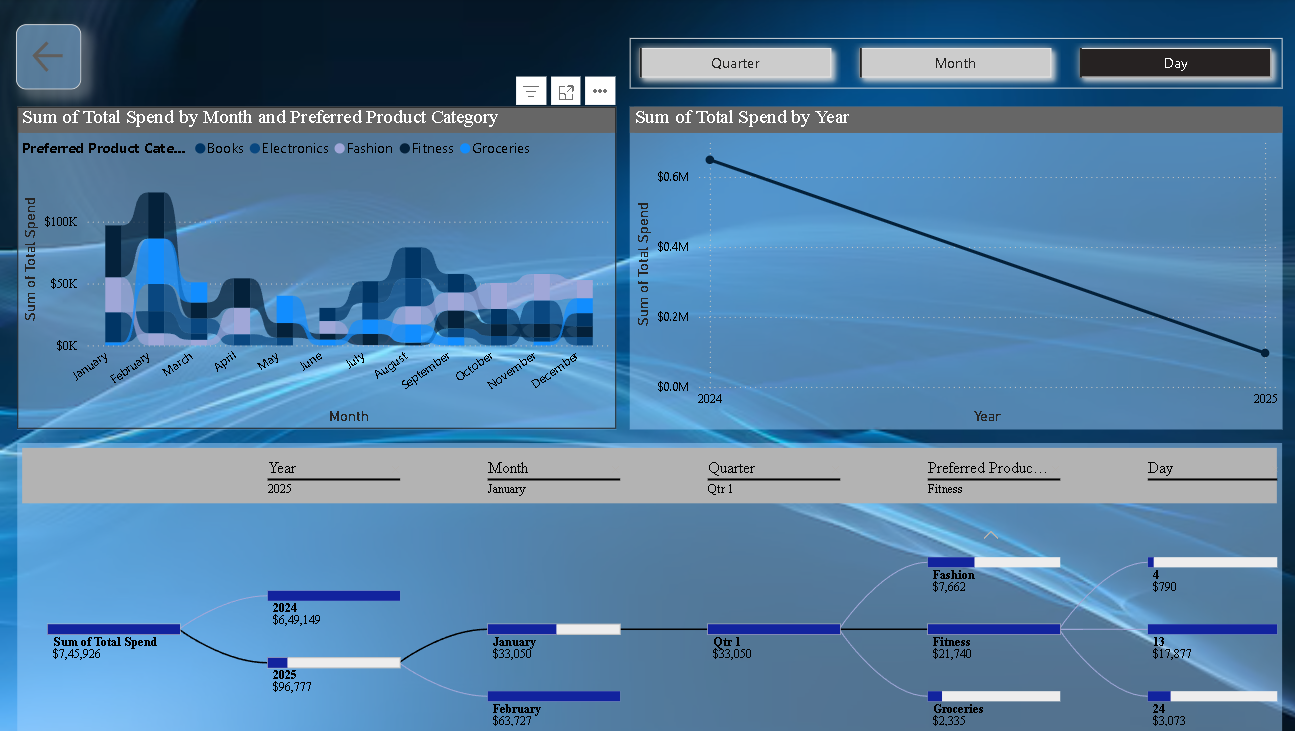

This screenshot's page, from the dashboard's own definition file:
{"tool":"powerbi","page":{"name":"Page 2","canvas":[1280,720],"ordinal":2},"visuals":[{"type":"decompositionTreeVisual","fields":{"Analyze":["Sum(Sheet1.Total Spend)"],"ExplainBy":["Sheet1.Last Purchase Date.Variation.Date Hierarchy.Year","Sheet1.Last Purchase Date.Variation.Date Hierarchy.Month","Sheet1.Last Purchase Date.Variation.Date Hierarchy.Quarter","Sheet1.Preferred Product Category","Sheet1.Last Purchase Date.Variation.Date Hierarchy.Day"]},"box":[20.7,437.3,1241.7,282.8],"z":0},{"type":"ribbonChart","fields":{"Y":["Sum(Sheet1.Total Spend)"],"Category":["Sheet1.Last Purchase Date.Variation.Date Hierarchy.Month"],"Series":["Sheet1.Preferred Product Category"]},"box":[20.6,106.2,587.7,317],"z":1000},{"type":"lineChart","fields":{"Y":["Sum(Sheet1.Total Spend)"],"Category":["Sheet1.Last Purchase Date.Variation.Date Hierarchy.Year","Sheet1.Last Purchase Date.Variation.Date Hierarchy.Quarter","Sheet1.Last Purchase Date.Variation.Date Hierarchy.Month","Sheet1.Last Purchase Date.Variation.Date Hierarchy.Day"]},"box":[622,106.2,640.9,317],"z":2000},{"type":"bookmarkNavigator","box":[622,39.4,640.9,49.7],"z":3000},{"type":"actionButton","box":[20,26.2,63.8,63.8],"z":4000}]}

Visuals, with their boxes in screenshot pixels (x1, y1, x2, y2), scaled from the page's 1280x720 canvas onto the 1295x731 screenshot:
decompositionTreeVisual - Sum(Sheet1.Total Spend) x Sheet1.Last Purchase Date.Variation.Date Hierarchy.Year: box=[21, 444, 1277, 730]
ribbonChart - Sum(Sheet1.Total Spend) x Sheet1.Last Purchase Date.Variation.Date Hierarchy.Month: box=[21, 108, 615, 430]
lineChart - Sum(Sheet1.Total Spend) x Sheet1.Last Purchase Date.Variation.Date Hierarchy.Year: box=[629, 108, 1278, 430]
bookmarkNavigator: box=[629, 40, 1278, 90]
actionButton: box=[20, 27, 85, 91]
